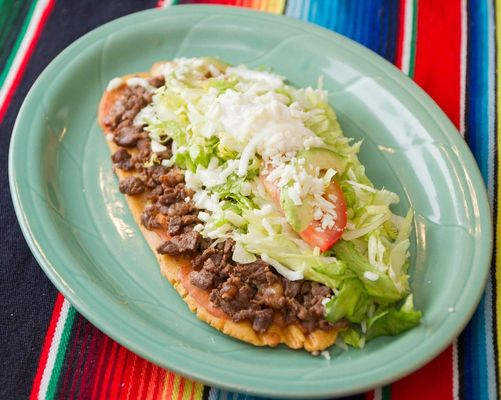curry: (6, 4, 490, 389)
sandwich: (98, 49, 456, 355)
